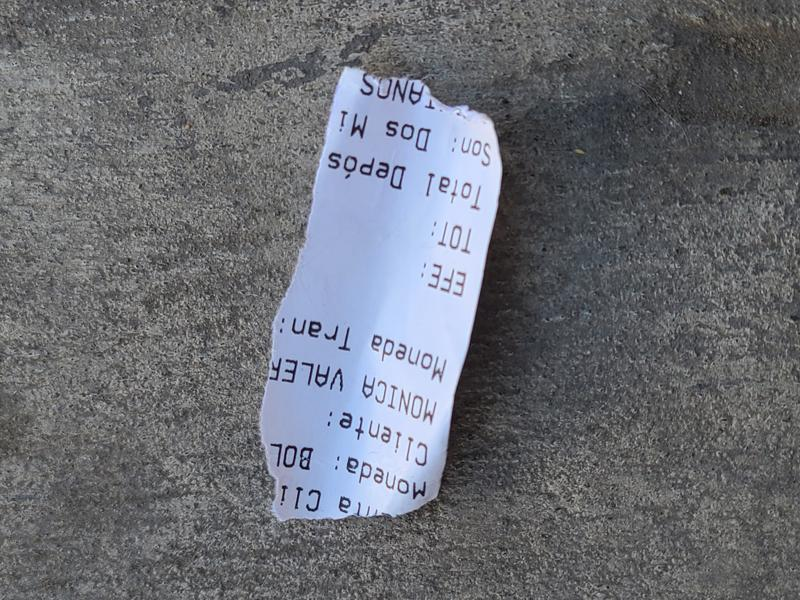papel: (259, 66, 504, 524)
